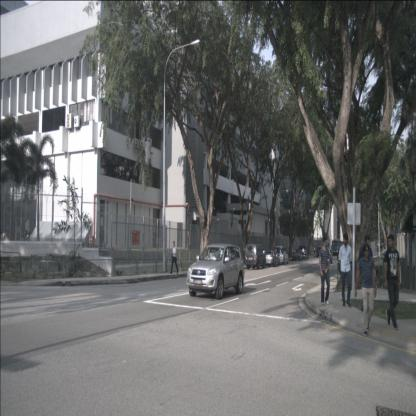human-pedestrian-adult: (354, 244, 377, 336), (384, 234, 401, 330), (358, 236, 374, 312), (338, 234, 353, 308), (319, 236, 331, 306), (170, 240, 178, 274), (314, 246, 316, 256)
vehicle-bus-rigid: (332, 240, 347, 255)
vehicle-car: (186, 242, 244, 300), (245, 244, 266, 270), (264, 250, 280, 267), (274, 246, 289, 264), (298, 246, 309, 259), (323, 249, 332, 264), (292, 249, 303, 261), (1, 232, 10, 246), (25, 231, 37, 241), (316, 246, 324, 257), (382, 246, 389, 255)
